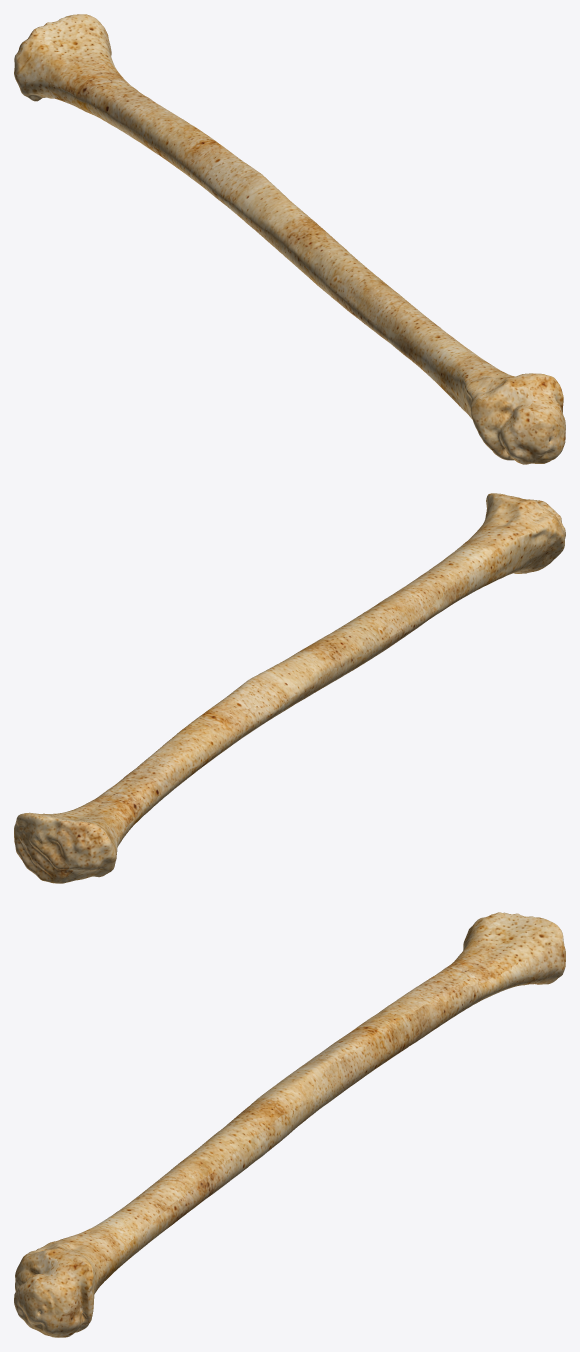
File: chimpanzee-fibula-right-1k-v01-textured-v02.glb
3 views of the same model, one above another, from view 1: azimuth 30°, elevation 25°; view 2: azimuth 150°, elevation 25°; view 3: azimuth 330°, elevation 25° (orthographic). The views are drawn at different scales.
Visible parts, largest first — view 1: Mesh_0; view 2: Mesh_0; view 3: Mesh_0.
Boxes of the visible parts, x1,y1,x2,y2 form: Mesh_0: (14, 14, 565, 464); Mesh_0: (14, 493, 565, 883); Mesh_0: (14, 912, 565, 1337).
Bounding box in the file's own units: 15.15 × 12.33 × 127.
1 material, 1 textured.
